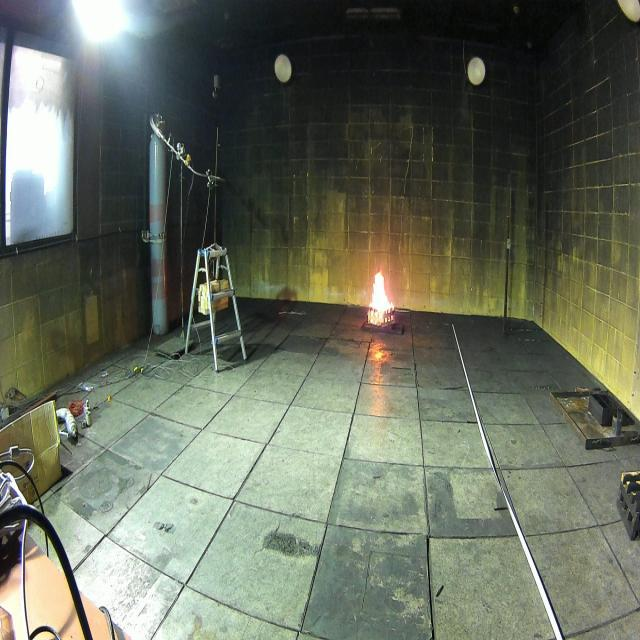Fire: (368, 270, 395, 326)
